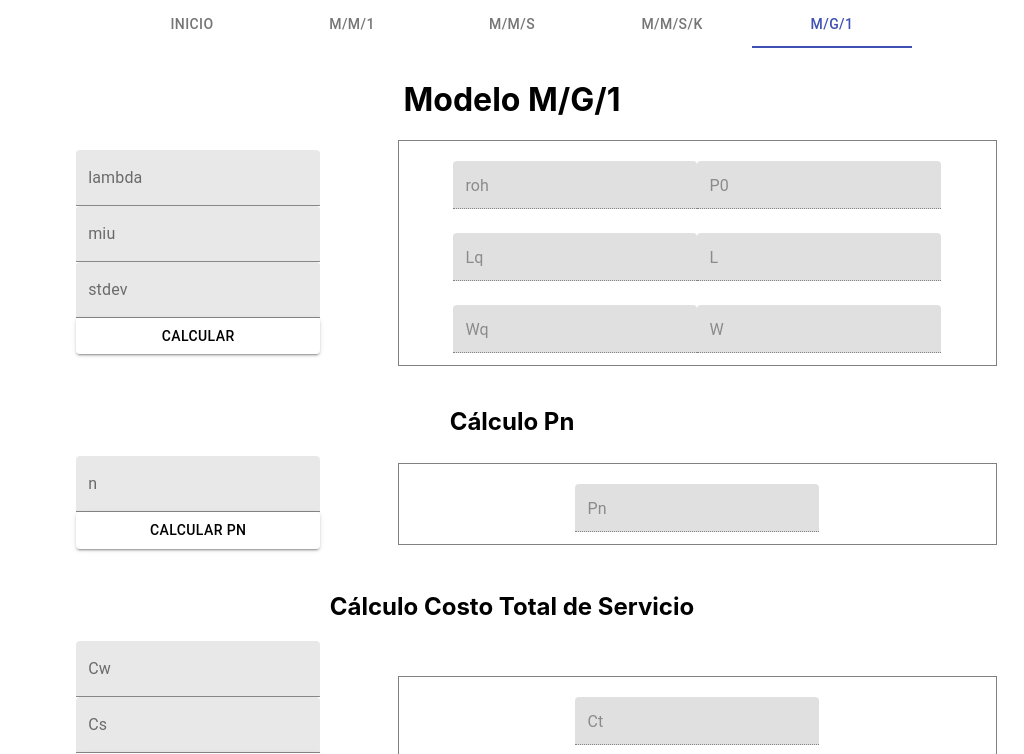
Test: Test input validation › negative numbers error
The width and height of the screenshot is (1024, 754).
In the number field labelled "lambda": (198, 178) [76, 150, 320, 206], type "-1"
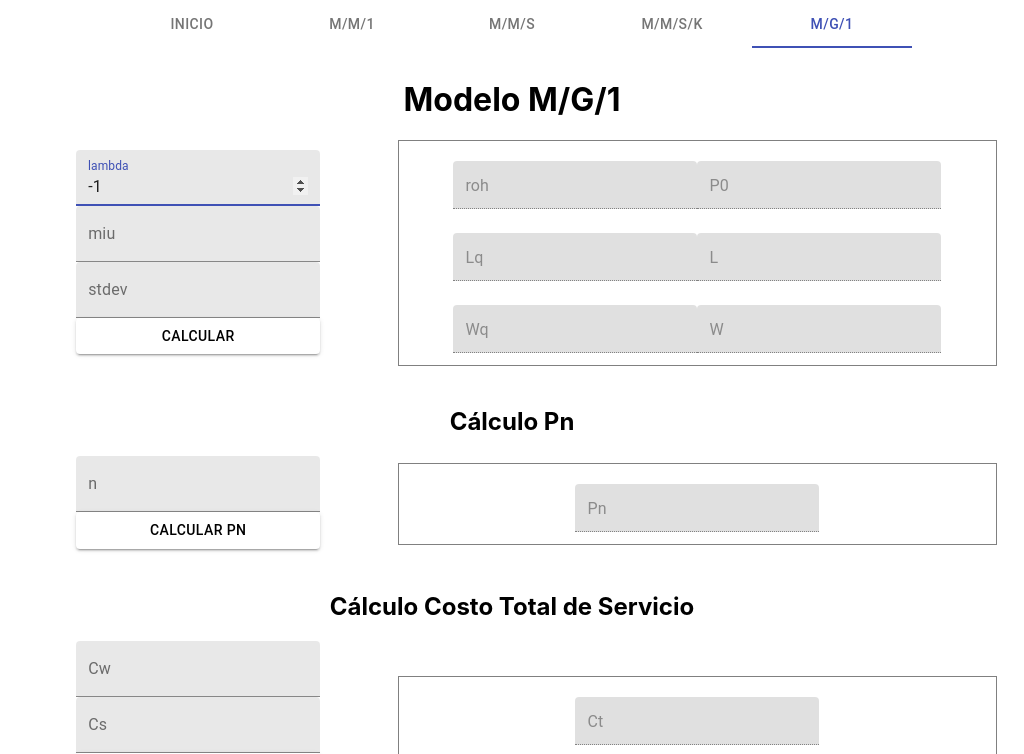
In the number field labelled "miu": (198, 234) [76, 206, 320, 262], type "-1"
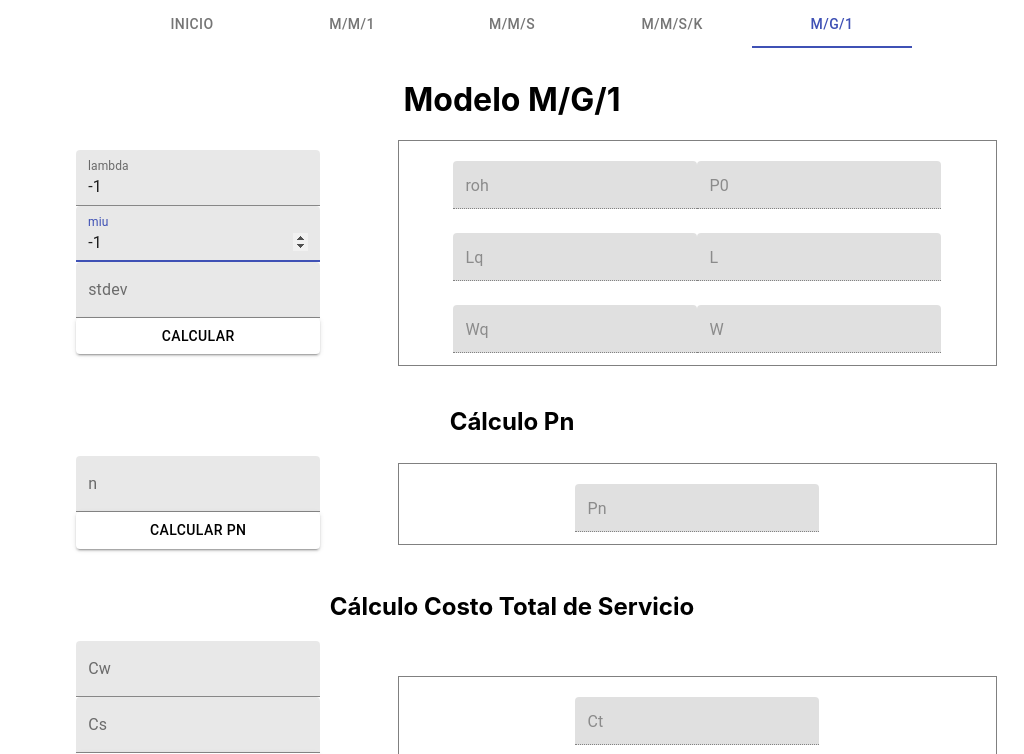
In the number field labelled "stdev": (198, 290) [76, 262, 320, 318], type "-1"
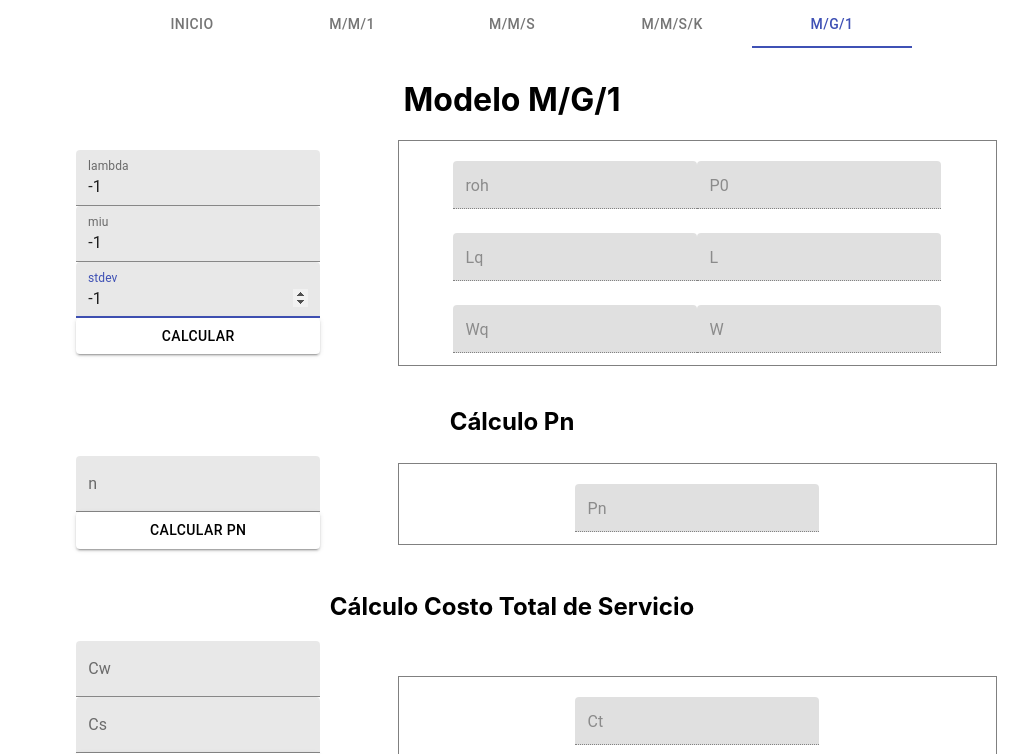
Click the button "Calcular": (198, 336) [76, 318, 320, 354]
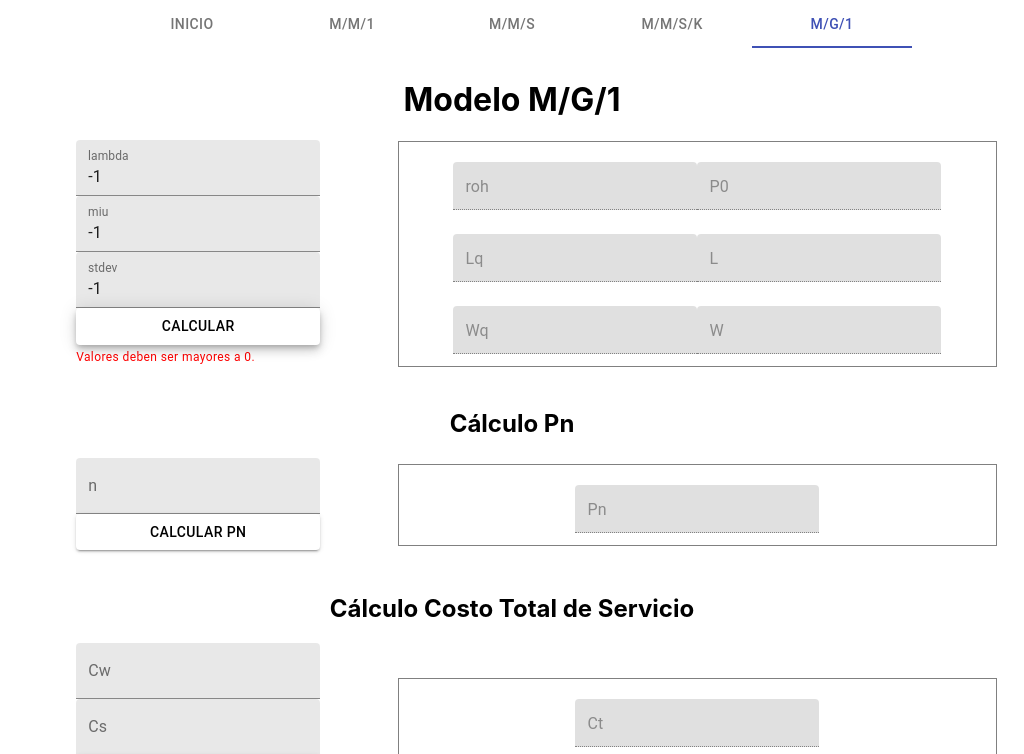
Result: the text "Valores deben ser mayores a 0." is shown at [76, 350, 255, 364]
